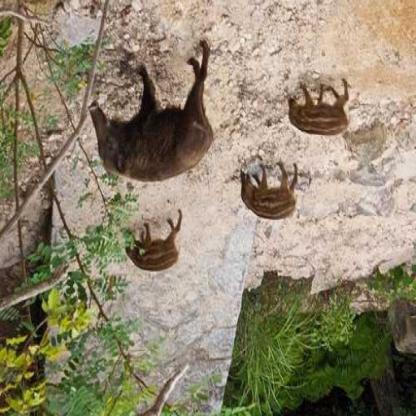boar: (72, 37, 229, 197), (125, 221, 209, 288), (231, 165, 295, 246), (294, 85, 358, 153)
